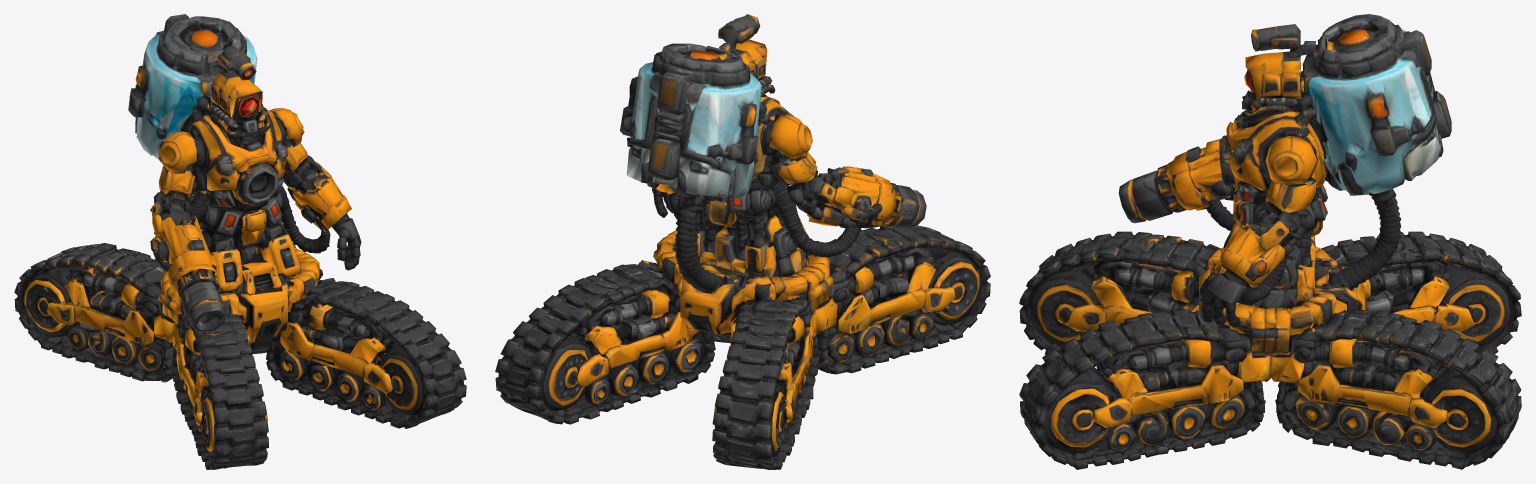
File: JeffTreads.glb
3 views of the same model, side by side, from view 1: azimuth 30°, elevation 25°; view 2: azimuth 150°, elevation 25°; view 3: azimuth 270°, elevation 25° (orthographic). The views are drawn at different scales.
Visible parts, largest first — view 1: Mesh_0; view 2: Mesh_0; view 3: Mesh_0.
Part boxes in pixels (box(x1,y1,x2,y2)): Mesh_0: box(14, 14, 466, 469); Mesh_0: box(495, 14, 990, 469); Mesh_0: box(1019, 14, 1521, 469).
Size of the model in its own units: 1.27 by 1.59 by 1.9.
1 material, 1 textured.
